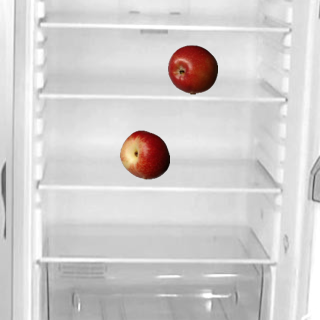Apple Braeburn: (167, 44, 217, 94)
Nectarine: (119, 129, 169, 179)
